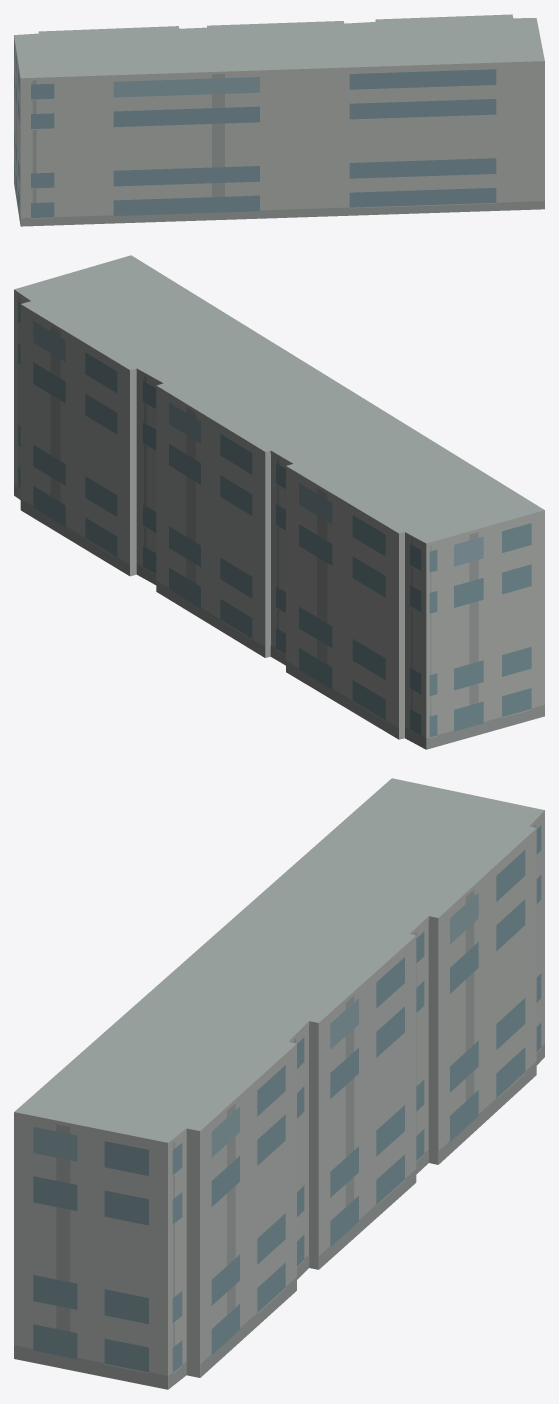
Rendered from survey-upis-32736741.glb.
3 views of the same model, one above another, from view 1: azimuth 30°, elevation 25°; view 2: azimuth 150°, elevation 25°; view 3: azimuth 270°, elevation 25° (orthographic). The views are drawn at different scales.
Visible parts, largest first — view 1: survey-upis-32736741.tmp; view 2: survey-upis-32736741.tmp; view 3: survey-upis-32736741.tmp.
Boxes of the visible parts, box(x1,y1,x2,y2) form: survey-upis-32736741.tmp: box(14, 14, 544, 226); survey-upis-32736741.tmp: box(14, 255, 544, 749); survey-upis-32736741.tmp: box(14, 778, 544, 1389).
Size of the model in its own units: 48.33 by 15.25 by 29.73.
